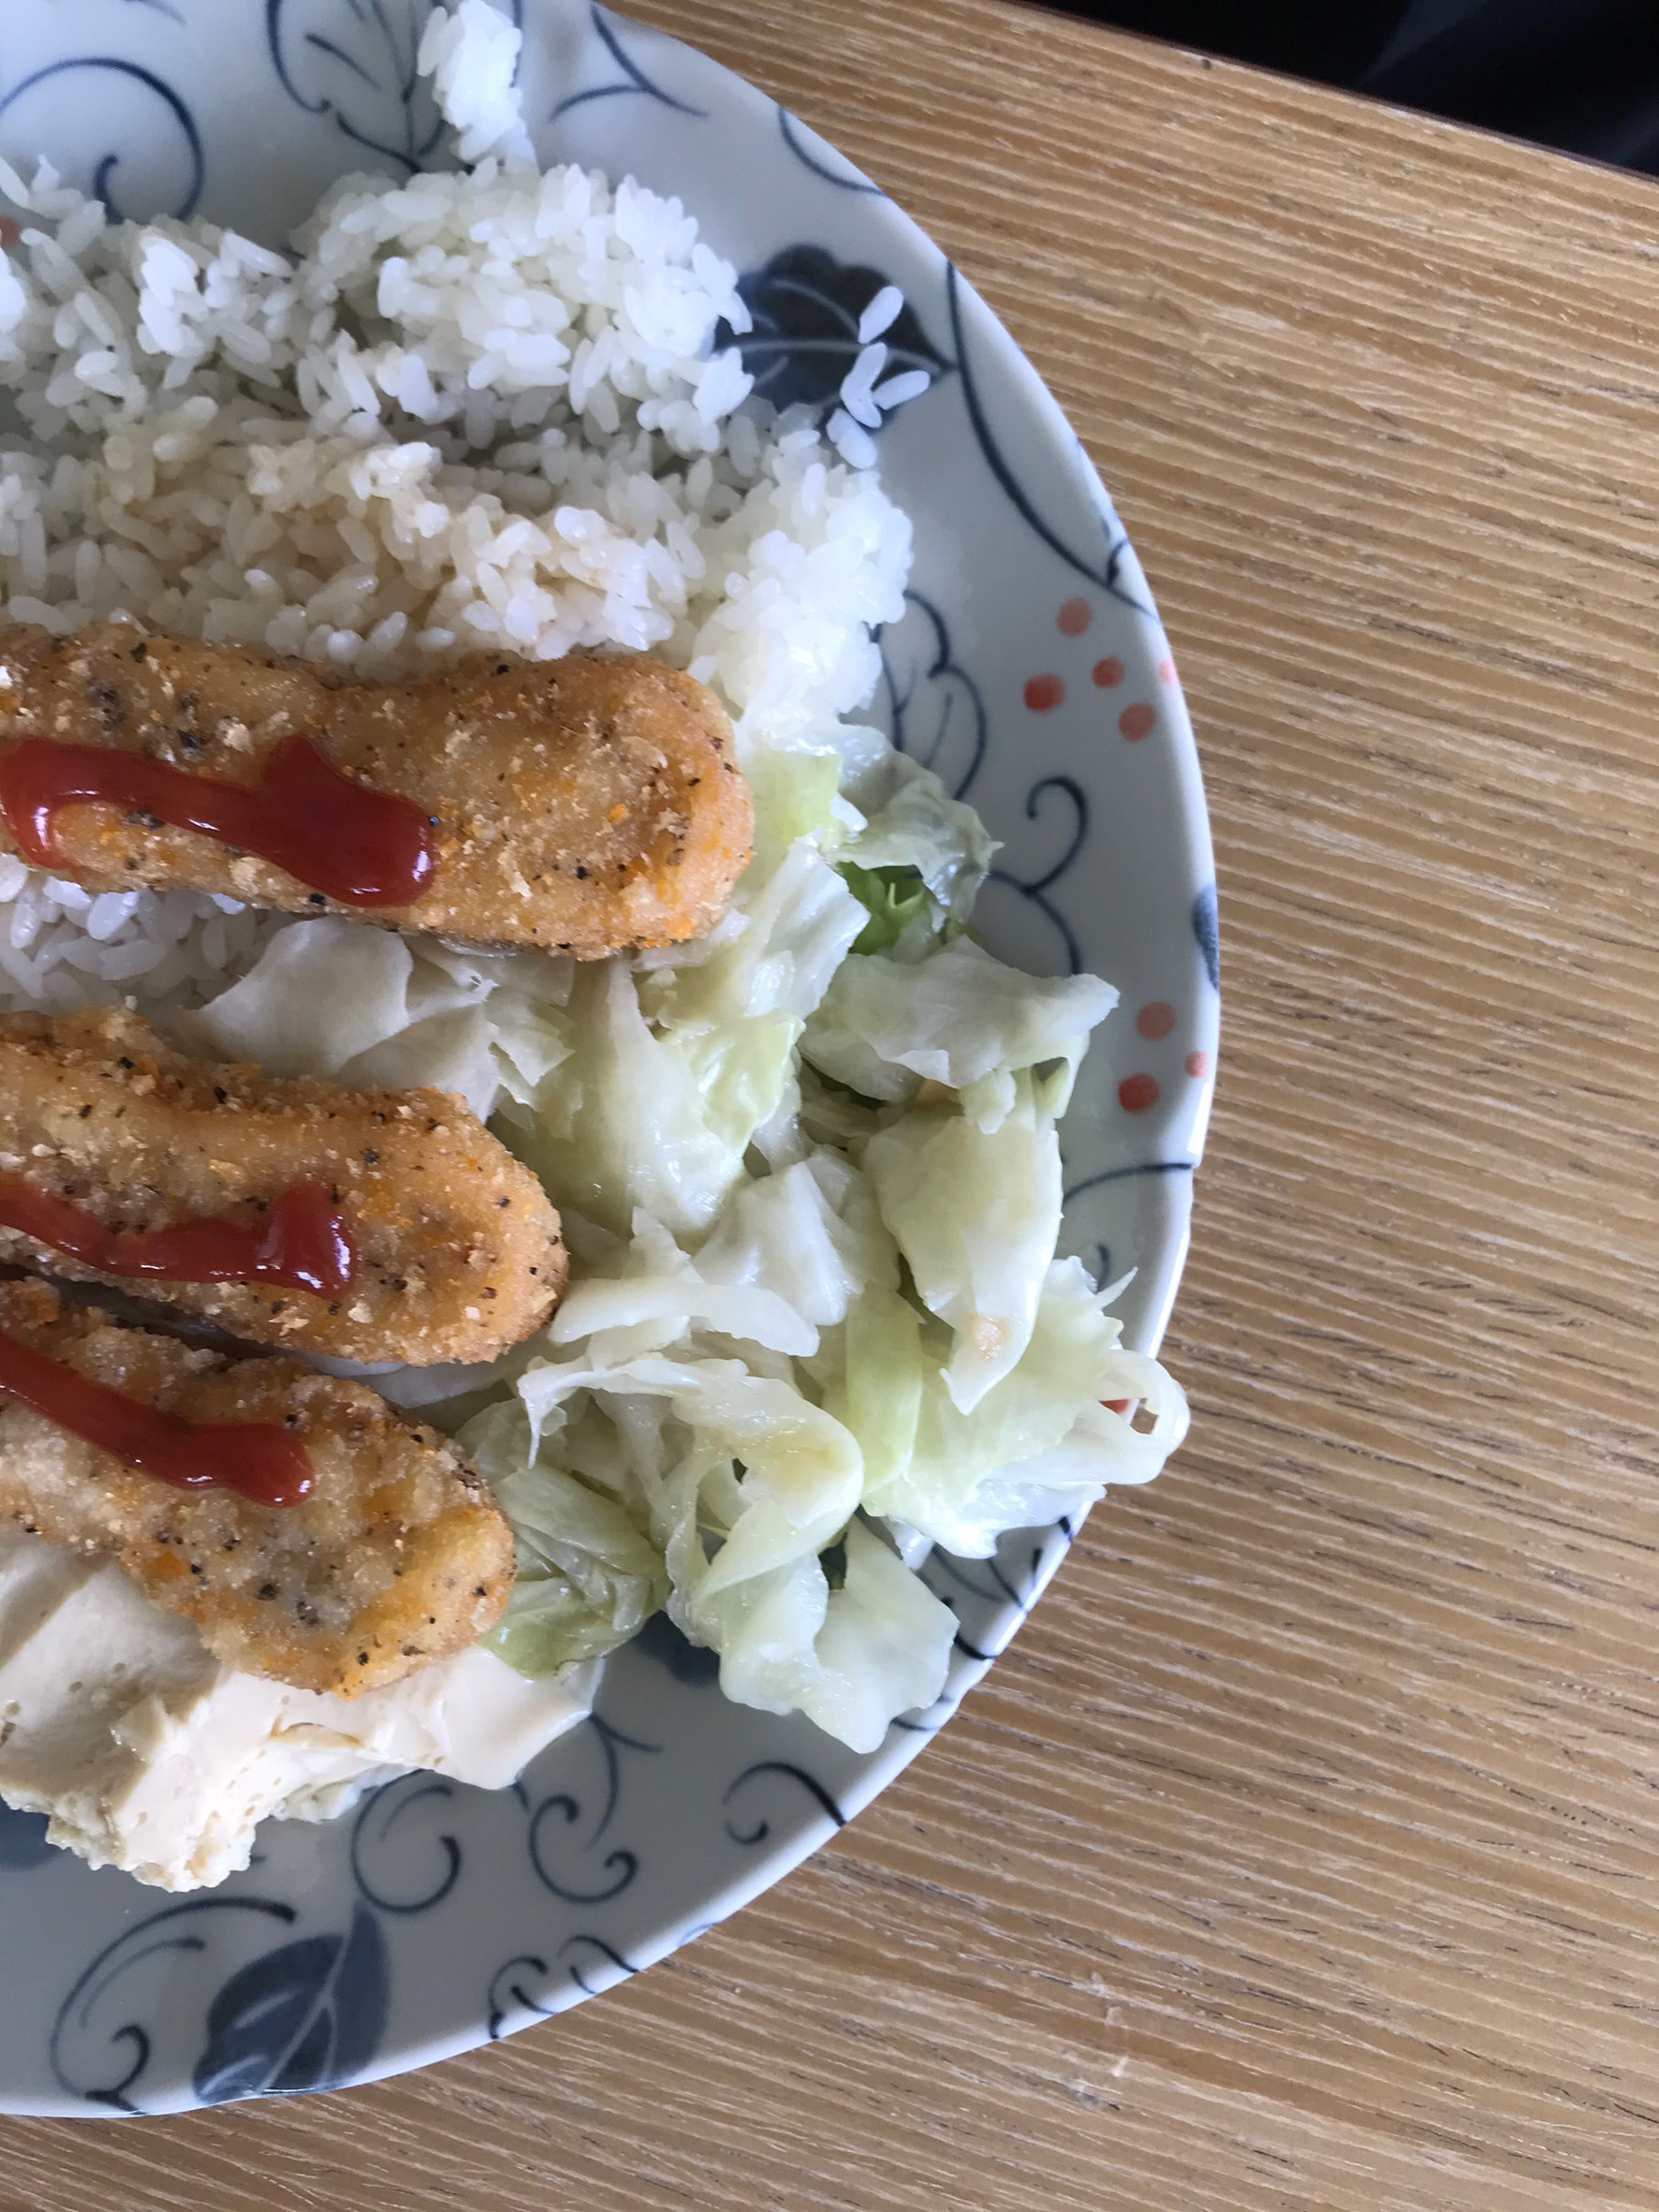chinese_cabbage: (525, 929, 1079, 1583)
rice: (47, 197, 737, 640)
